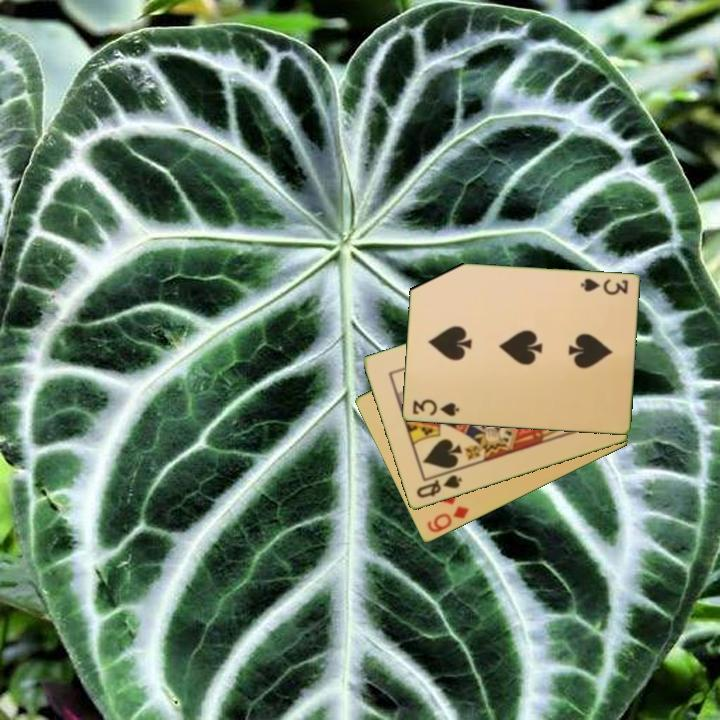3s: (577, 275, 631, 298), (409, 396, 462, 419)
6d: (423, 503, 472, 536)
Qs: (413, 472, 465, 501)
